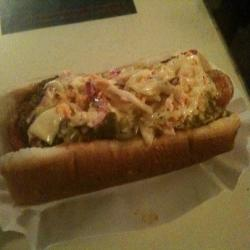hotdog: (4, 48, 243, 204)
